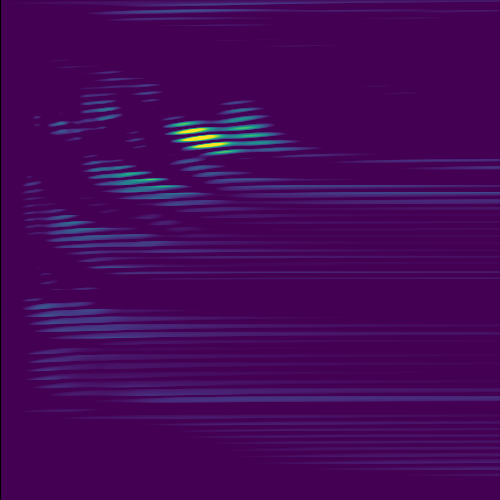semblance: (169, 119, 236, 161)
